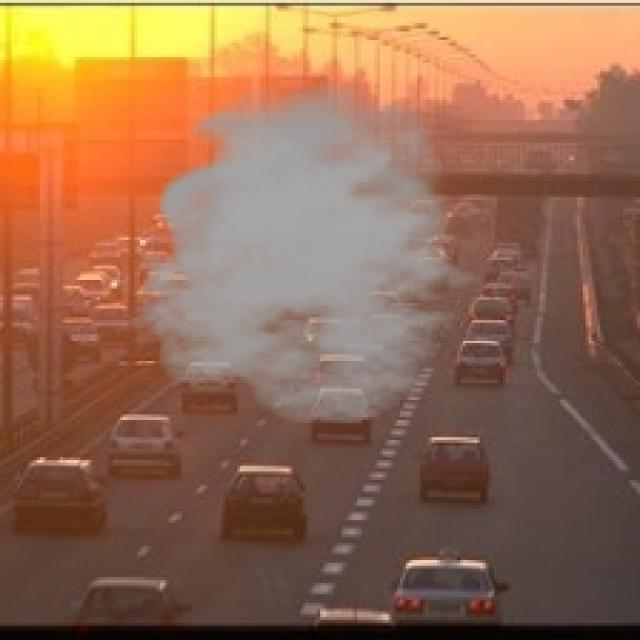smoke: (126, 83, 497, 426)
